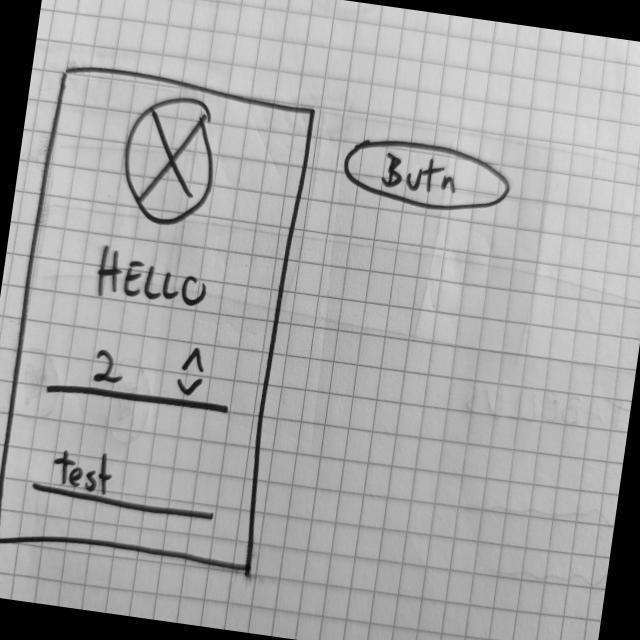button: (338, 132, 518, 222)
container: (1, 58, 320, 582)
image: (116, 90, 226, 234)
input: (29, 441, 227, 525)
label: (88, 242, 216, 320)
number-input: (45, 326, 240, 419)
